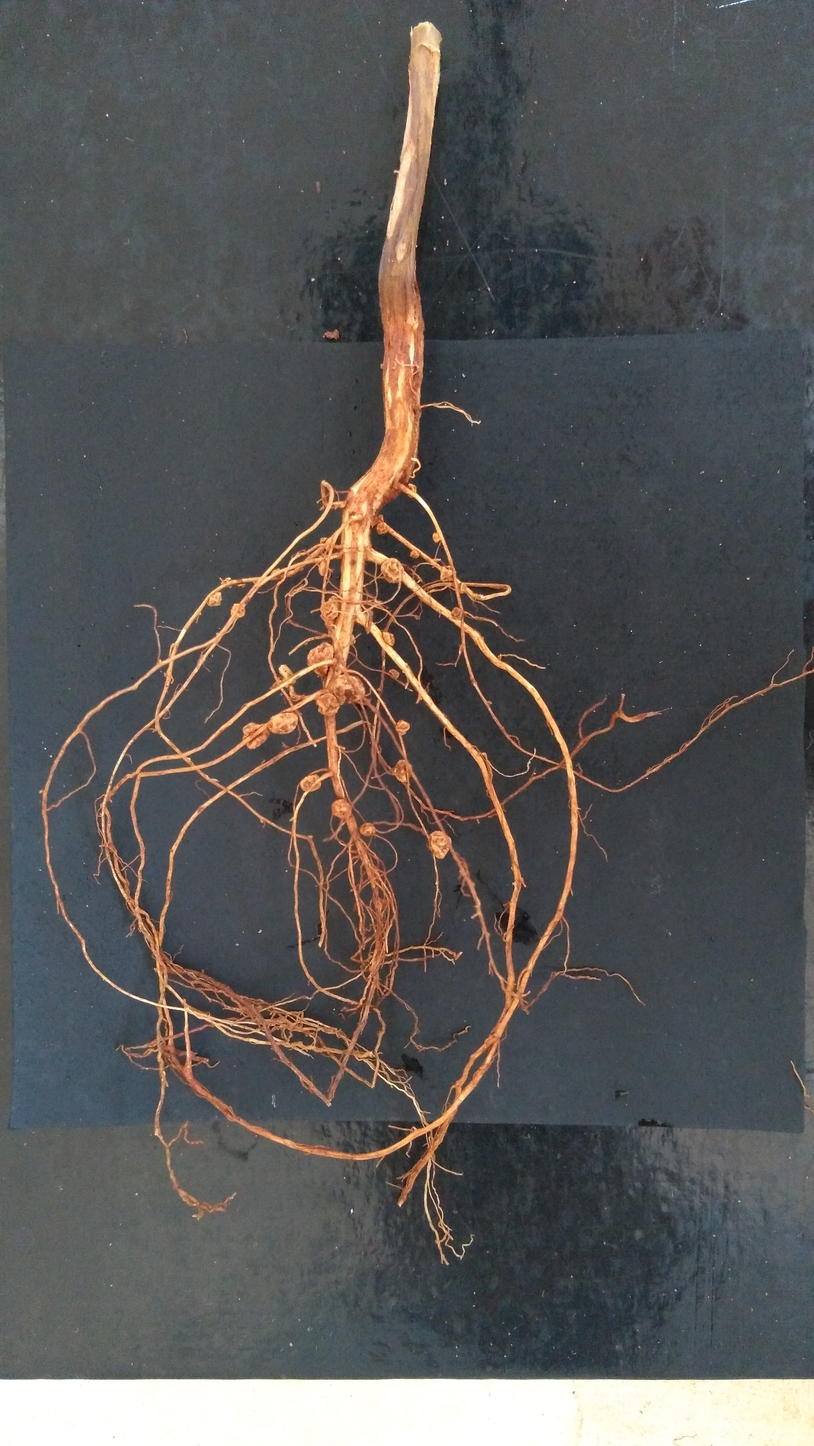nodule: (333, 674, 365, 705), (307, 642, 333, 677), (243, 722, 270, 749), (429, 831, 452, 859), (269, 713, 298, 734), (381, 558, 405, 583), (316, 692, 340, 716), (320, 596, 341, 621), (278, 664, 296, 687), (395, 759, 412, 783), (331, 799, 351, 819), (300, 774, 321, 792), (359, 823, 375, 837), (395, 720, 409, 736), (440, 565, 454, 581), (206, 592, 222, 606), (230, 603, 245, 617), (382, 631, 395, 647), (376, 522, 388, 535), (451, 607, 463, 620), (318, 561, 328, 576), (407, 483, 416, 499), (221, 577, 232, 588), (378, 898, 388, 910), (458, 582, 467, 594), (389, 669, 400, 678), (271, 568, 281, 577), (432, 532, 440, 543), (349, 633, 356, 645), (410, 549, 419, 558), (320, 537, 328, 544), (236, 583, 246, 588)
